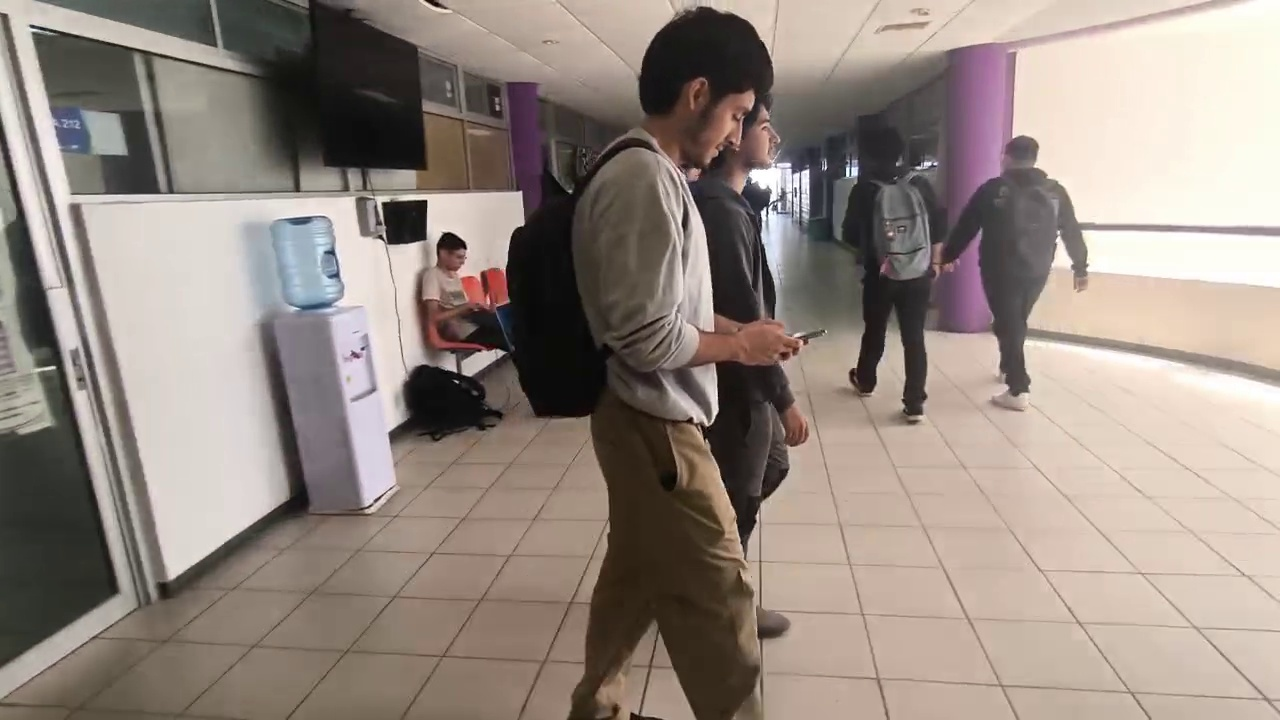mixto2: (777, 317, 833, 347)
